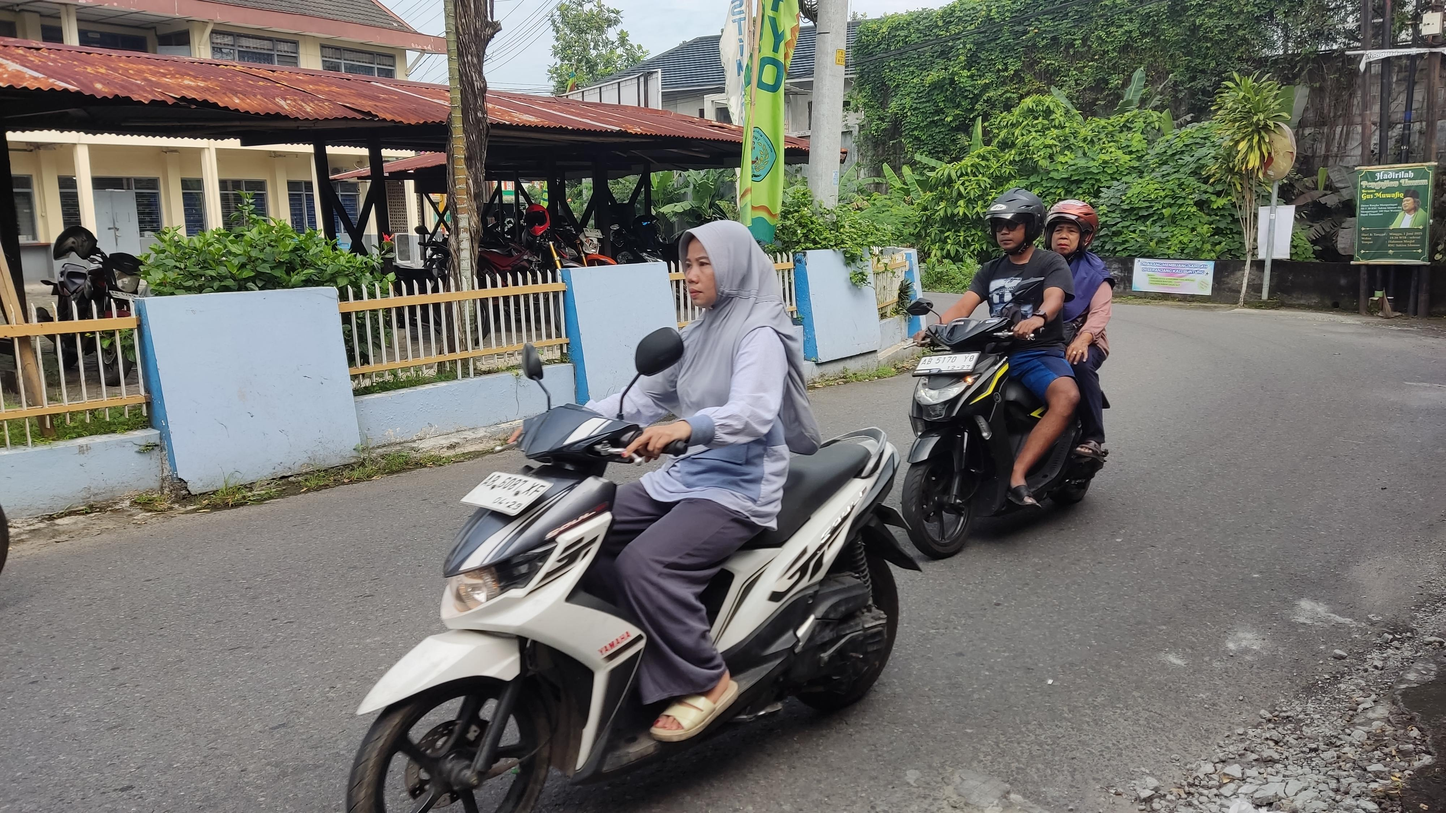helm: (980, 183, 1047, 263), (1048, 190, 1098, 263)
nohelm: (676, 217, 772, 316)
riding: (327, 208, 907, 813), (895, 183, 1130, 575)
